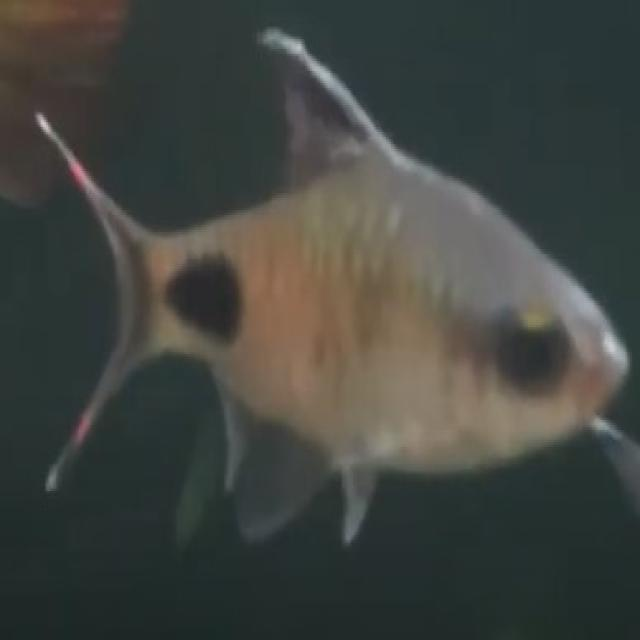Black-Spotted-Barb: (26, 28, 640, 555)
